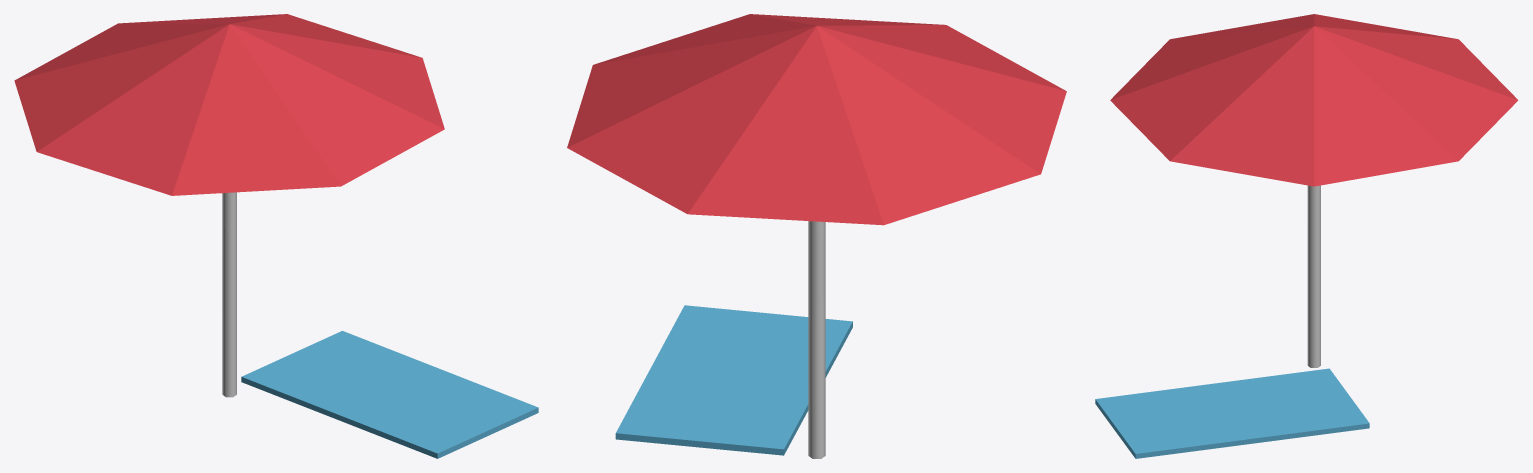
Rendered from beach_umbrella.glb.
3 renders of one model, left to right at view 1: azimuth 30°, elevation 25°; view 2: azimuth 150°, elevation 25°; view 3: azimuth 270°, elevation 25°, orthographic. The views are drawn at different scales.
Visible parts, largest first — view 1: Umbrella; view 2: Umbrella; view 3: Umbrella.
Part boxes in pixels (left/top/right/bottom): Umbrella: left=14, top=14, right=538, bottom=458; Umbrella: left=567, top=14, right=1066, bottom=458; Umbrella: left=1095, top=14, right=1518, bottom=458.
Bounding box in the file's own units: 3.14 × 2.75 × 3.11.
